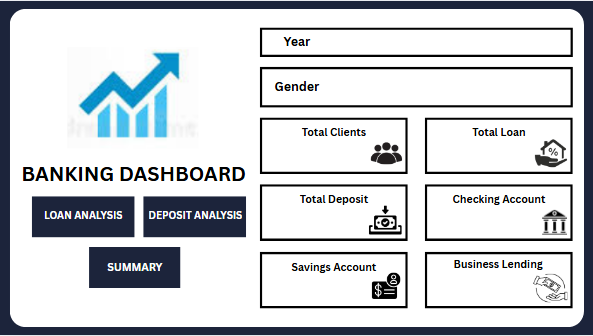

This screenshot's page, from the dashboard's own definition file:
{"tool":"powerbi","page":{"name":"Home","canvas":[1280,720],"ordinal":0},"visuals":[{"type":"card","fields":{"Values":["CountNonNull(banking_case customer.Name)"]},"box":[640,304,144,48],"z":0},{"type":"card","fields":{"Values":["banking_case customer.Total Loan"]},"box":[976,304,192,48],"z":1000},{"type":"card","fields":{"Values":["banking_case customer.Total Deposit"]},"box":[592,448,192,48],"z":2000},{"type":"card","fields":{"Values":["Sum(banking_case customer.Checking Accounts)"]},"box":[976,448,176,48],"z":3000},{"type":"card","fields":{"Values":["Sum(banking_case customer.Saving Accounts)"]},"box":[592,592,208,48],"z":4000},{"type":"card","fields":{"Values":["Sum(banking_case customer.Business Lending)"]},"box":[976,592,144,48],"z":5000},{"type":"slicer","fields":{"Values":["banking_case customer.GenderId"]},"box":[720,144,512,80],"z":6000},{"type":"slicer","fields":{"Values":["banking_case customer.Year of Joining"]},"box":[720,64,512,48],"z":7000},{"type":"actionButton","box":[64,416,224,96],"z":8000},{"type":"actionButton","box":[304,416,224,96],"z":9000},{"type":"actionButton","box":[192,528,199,96],"z":10000}]}

Visuals, with their boxes in screenshot pixels (x1, y1, x2, y2), scaled from the page's 1280x720 canvas onto the 593x336 screenshot:
card - CountNonNull(banking_case customer.Name): <box>296,142,363,164</box>
card - banking_case customer.Total Loan: <box>452,142,541,164</box>
card - banking_case customer.Total Deposit: <box>274,209,363,231</box>
card - Sum(banking_case customer.Checking Accounts): <box>452,209,534,231</box>
card - Sum(banking_case customer.Saving Accounts): <box>274,276,371,299</box>
card - Sum(banking_case customer.Business Lending): <box>452,276,519,299</box>
slicer - banking_case customer.GenderId: <box>334,67,571,105</box>
slicer - banking_case customer.Year of Joining: <box>334,30,571,52</box>
actionButton: <box>30,194,133,239</box>
actionButton: <box>141,194,245,239</box>
actionButton: <box>89,246,181,291</box>
